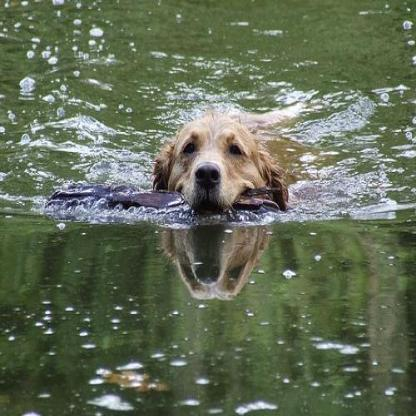clumber: (152, 113, 289, 209)
